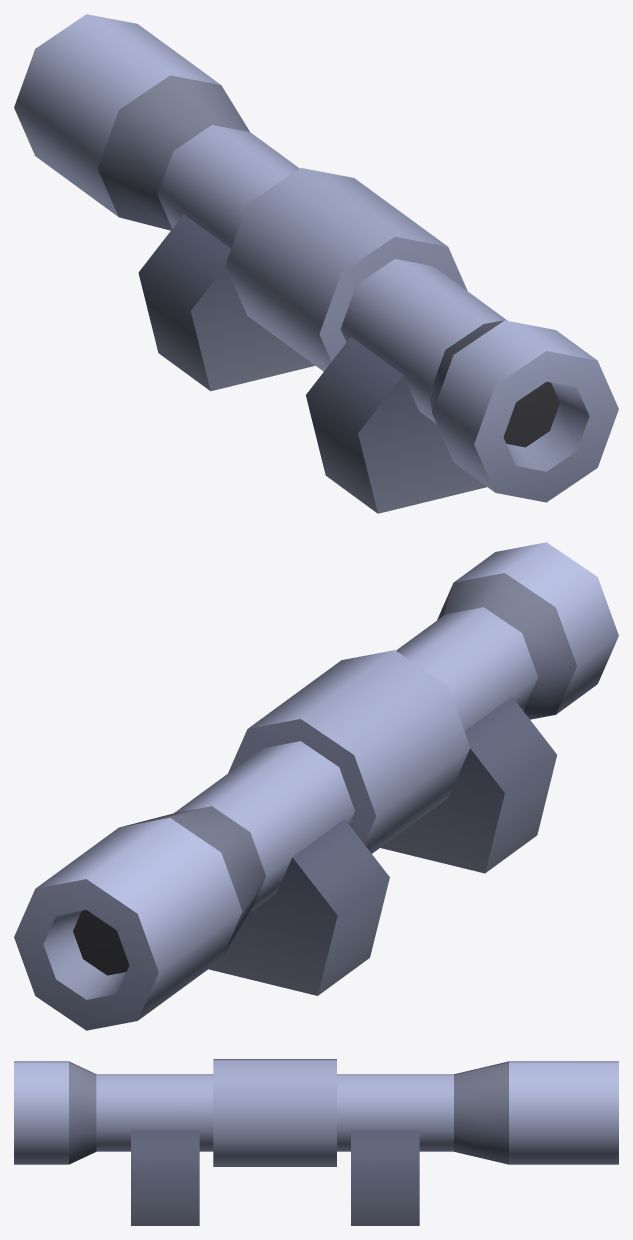
The model's file is scope-large-b.glb.
3 views of the same model, one above another, from view 1: azimuth 30°, elevation 25°; view 2: azimuth 150°, elevation 25°; view 3: azimuth 270°, elevation 25° (orthographic). The views are drawn at different scales.
Parts seen in each view (by area): view 1: scope-large-b; view 2: scope-large-b; view 3: scope-large-b.
Boxes of the visible parts, x1=… form: scope-large-b: x1=14, y1=14, x2=618, y2=513; scope-large-b: x1=14, y1=542, x2=618, y2=1030; scope-large-b: x1=14, y1=1059, x2=618, y2=1225.
Bounding box in the file's own units: 0.11 × 0.1117 × 0.44.
1 material, 1 textured.
